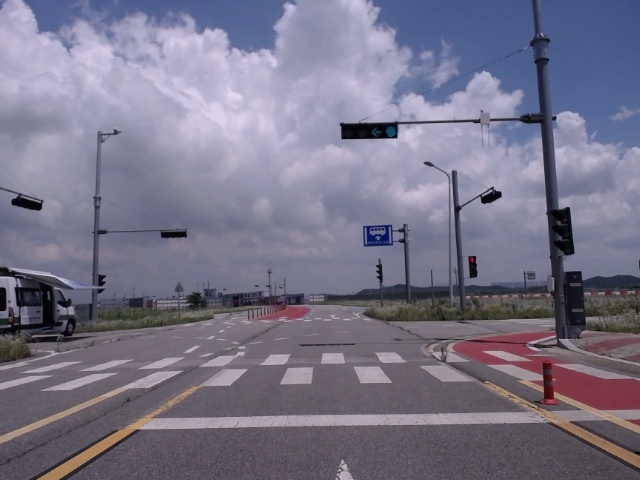all_green_4: (338, 125, 400, 138)
